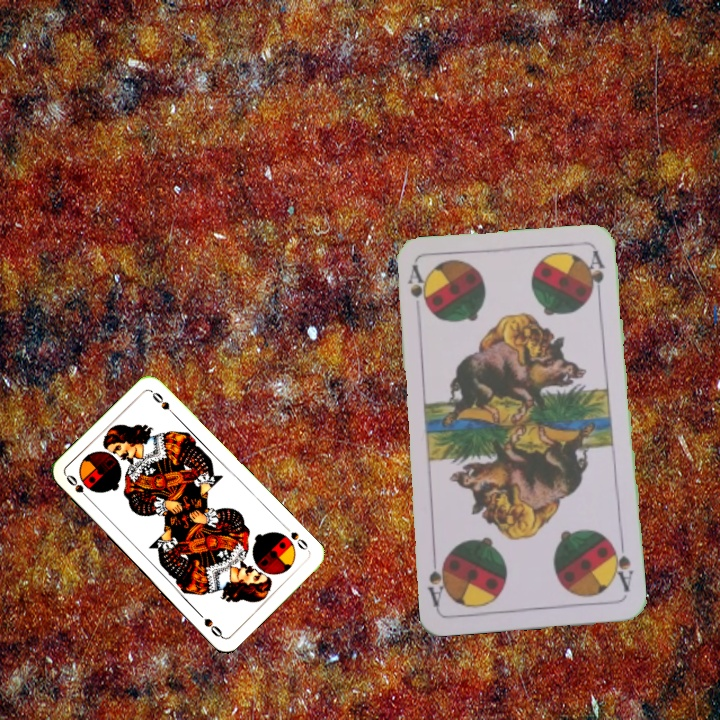SA: (607, 537, 636, 595), (403, 262, 430, 313)
SO: (62, 470, 94, 504), (286, 527, 312, 554)
